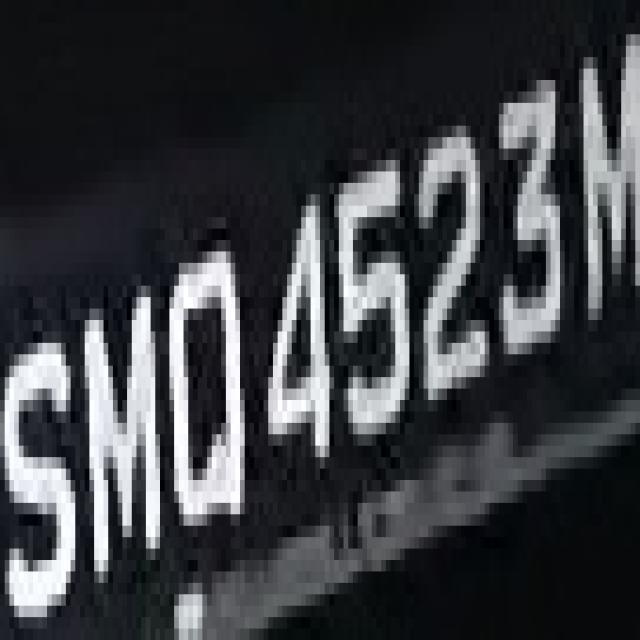2: (396, 114, 508, 446)
3: (485, 46, 560, 377)
4: (240, 172, 339, 492)
5: (329, 137, 419, 434)
M: (75, 229, 174, 594), (570, 23, 636, 366)
Q: (155, 206, 259, 537)
S: (5, 286, 84, 628)
